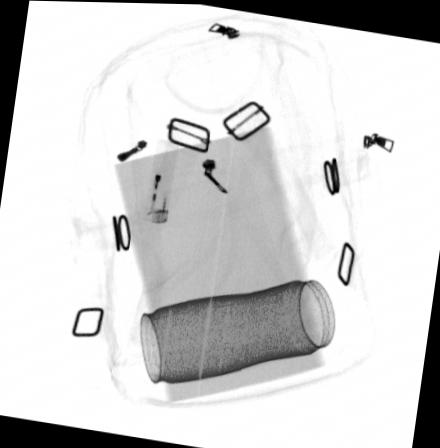Lighter: (143, 139, 179, 222)
